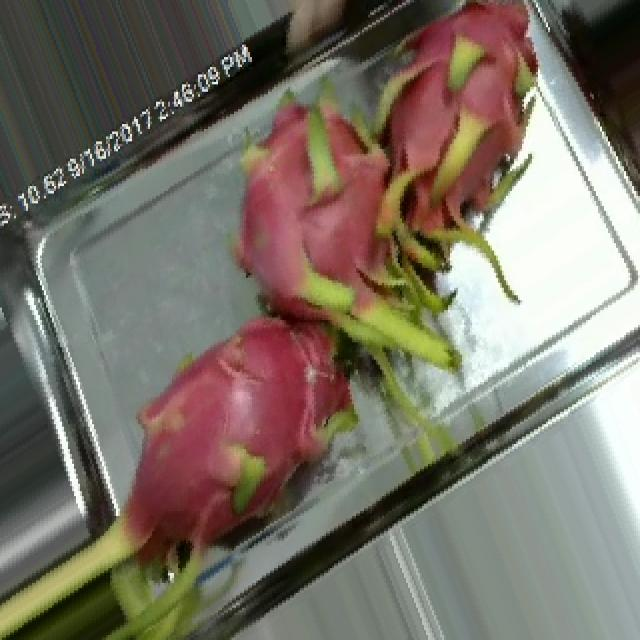Fruit: (548, 0, 640, 198)
